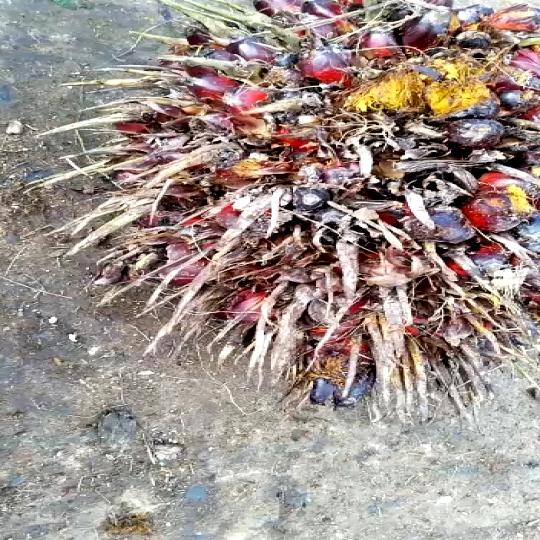terlalu masak: (77, 0, 540, 417)
